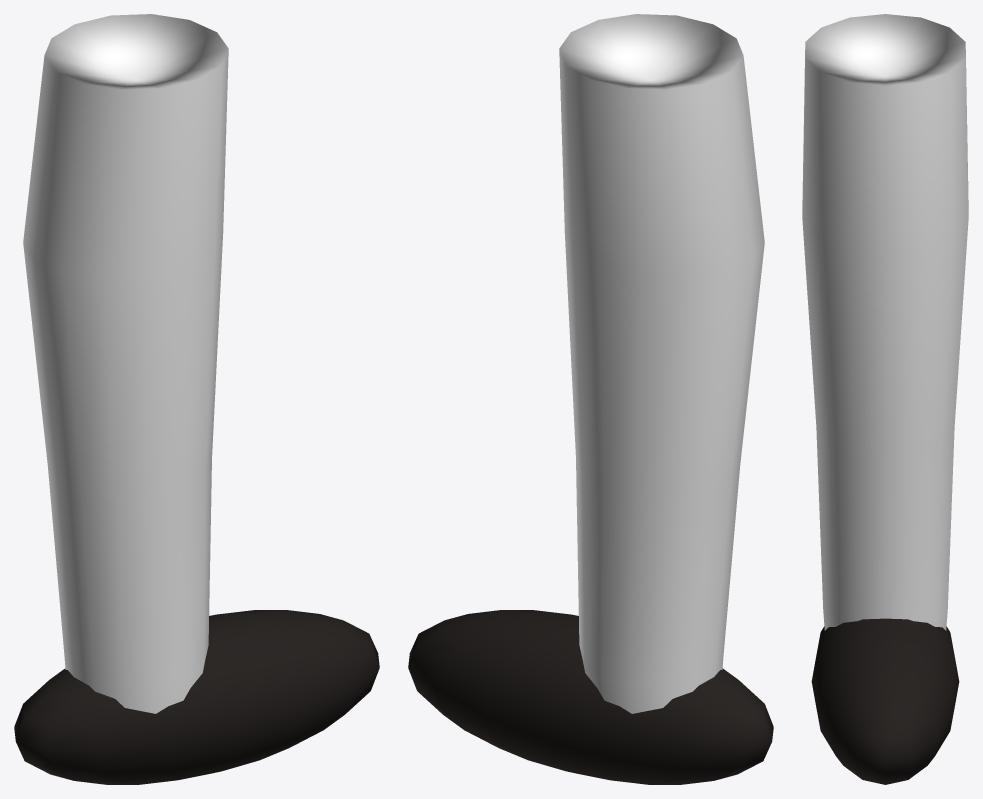
The model's file is shin.obj.
3 views of the same model, side by side, from view 1: azimuth 30°, elevation 25°; view 2: azimuth 150°, elevation 25°; view 3: azimuth 270°, elevation 25° (orthographic). The views are drawn at different scales.
Parts seen in each view (by area): view 1: shin_TrousersPaint, shin_Shoes; view 2: shin_TrousersPaint, shin_Shoes; view 3: shin_TrousersPaint, shin_Shoes.
Boxes of the visible parts, x1,y1,x2,y2 form: shin_TrousersPaint: [23, 14, 228, 713]; shin_Shoes: [14, 610, 379, 784]; shin_TrousersPaint: [559, 14, 764, 713]; shin_Shoes: [408, 610, 773, 784]; shin_TrousersPaint: [802, 14, 968, 630]; shin_Shoes: [811, 618, 959, 784].
Bounding box in the file's own units: 0.27 × 0.5105 × 0.117.
2 materials, 2 textured.
